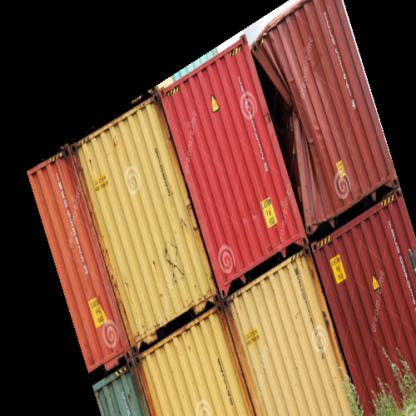Damage: (238, 34, 327, 221)
